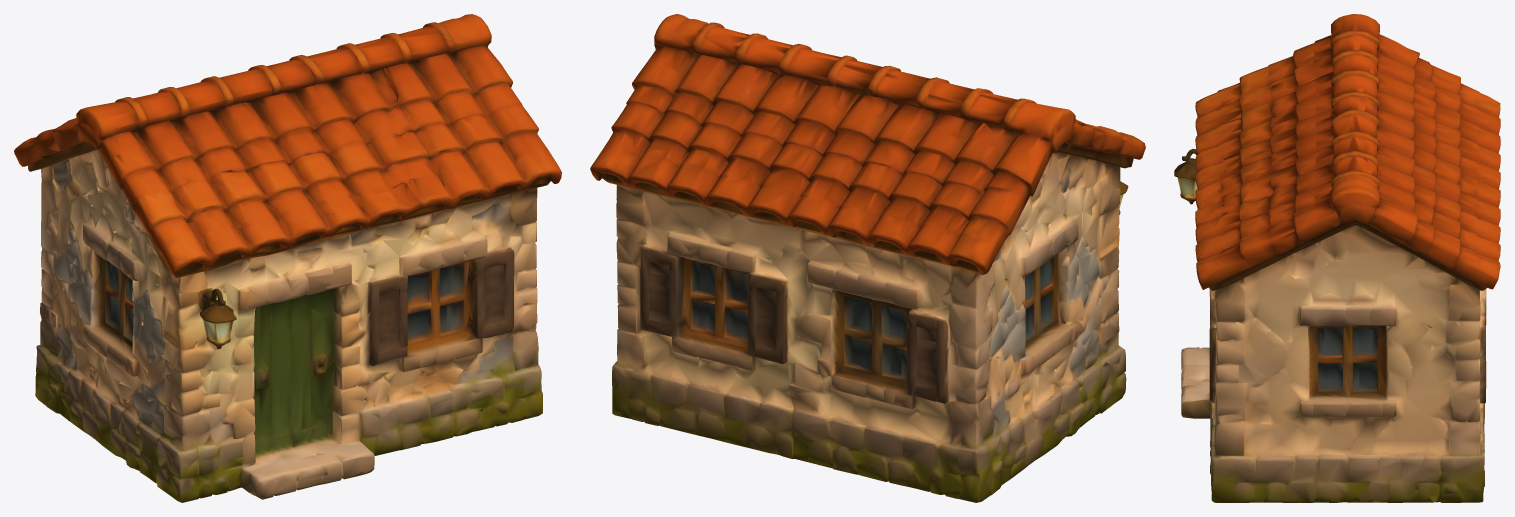
File: Piece03.fbx
The picture shows the model from 3 angles, left to right: view 1: azimuth 30°, elevation 25°; view 2: azimuth 150°, elevation 25°; view 3: azimuth 270°, elevation 25°; orthographic projection. The views are drawn at different scales.
Parts seen in each view (by area): view 1: Piece03; view 2: Piece03; view 3: Piece03.
Boxes of the visible parts, x1,y1,x2,y2 form: Piece03: (14, 14, 561, 502); Piece03: (590, 14, 1145, 502); Piece03: (1174, 14, 1500, 502).
Bounding box in the file's own units: 100 × 82.01 × 76.17.
Materials: 1 (1 with a texture image).
